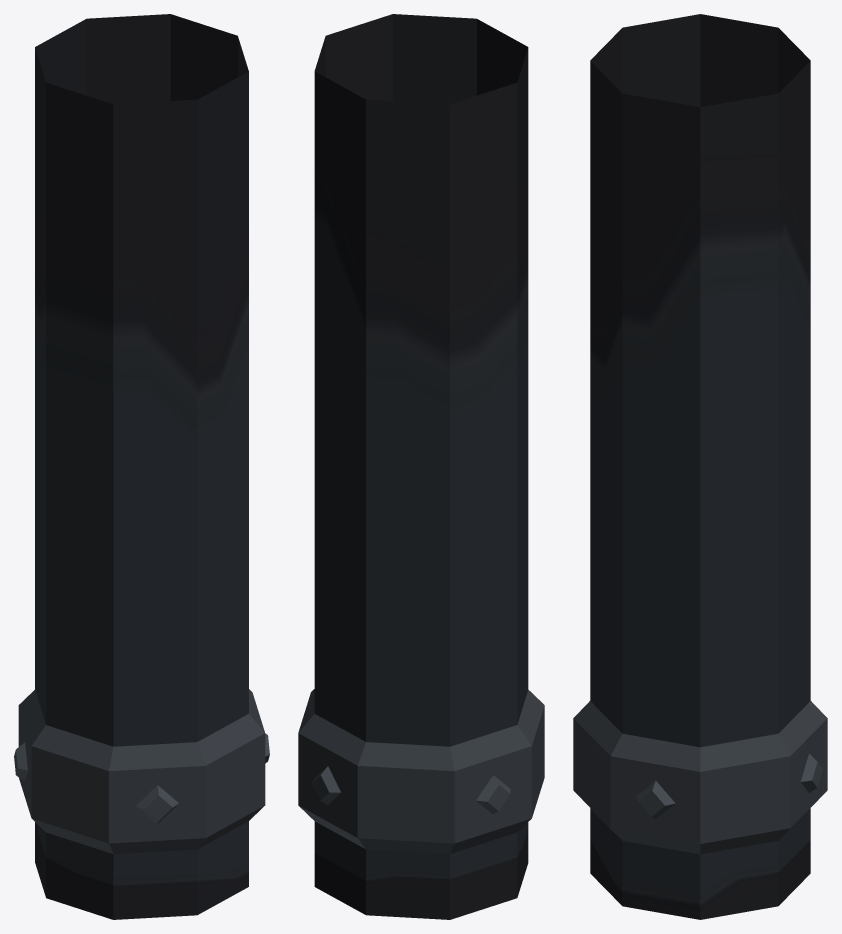
File: SM_Stove_Pipe_A.fbx
The picture shows the model from 3 angles, left to right: view 1: azimuth 30°, elevation 25°; view 2: azimuth 150°, elevation 25°; view 3: azimuth 270°, elevation 25°; orthographic projection.
Visible parts, largest first — view 1: SM_Stove_Pipe_A; view 2: SM_Stove_Pipe_A; view 3: SM_Stove_Pipe_A.
Part boxes in pixels (box(x1,y1,x2,y2)): SM_Stove_Pipe_A: box(14, 14, 269, 919); SM_Stove_Pipe_A: box(298, 14, 544, 919); SM_Stove_Pipe_A: box(573, 14, 827, 919).
Bounding box in the file's own units: 28.35 × 100 × 28.35.
